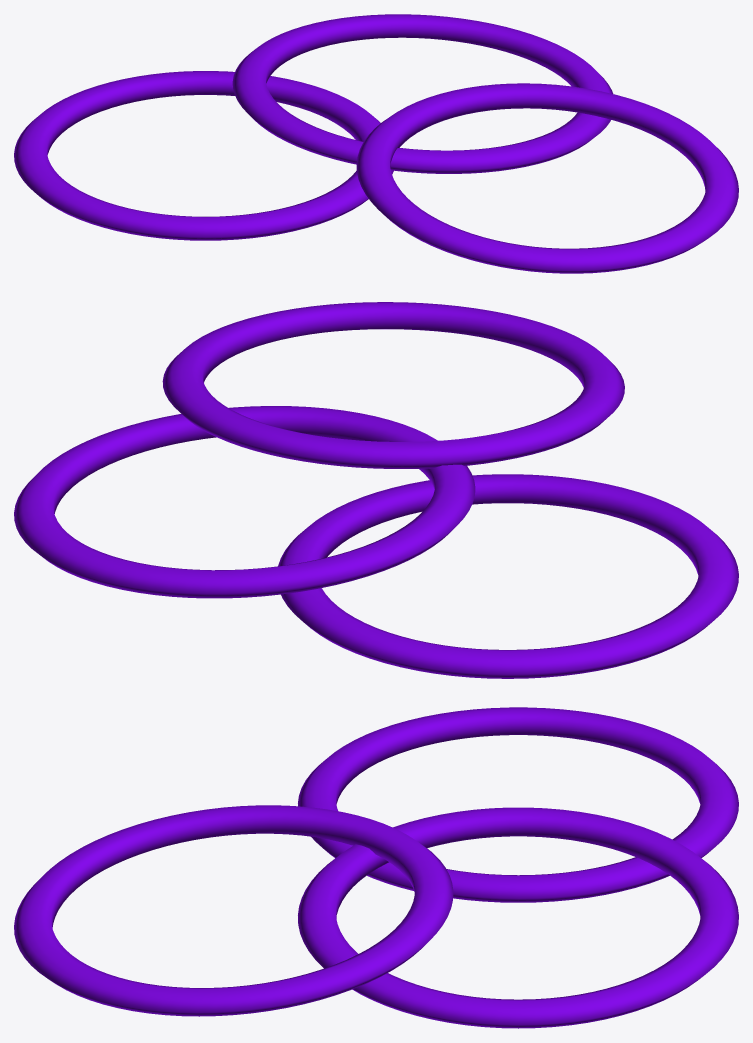
Rendered from MagicRings.fbx.
The picture shows the model from 3 angles, top to bottom: view 1: azimuth 30°, elevation 25°; view 2: azimuth 150°, elevation 25°; view 3: azimuth 270°, elevation 25°; orthographic projection. The views are drawn at different scales.
Visible parts, largest first — view 1: Torus.002, Torus.001, Torus.004; view 2: Torus.004, Torus.002, Torus.001; view 3: Torus.002, Torus.001, Torus.004.
Boxes of the visible parts, x1,y1,x2,y2 form: Torus.002: (356, 83, 738, 273); Torus.001: (232, 14, 613, 173); Torus.004: (14, 71, 393, 240); Torus.004: (278, 474, 738, 678); Torus.002: (162, 302, 624, 468); Torus.001: (14, 406, 475, 598); Torus.002: (14, 805, 453, 1016); Torus.001: (298, 807, 738, 1028); Torus.004: (298, 707, 738, 902).
Size of the model in its own units: 414 by 35.5 by 411.
